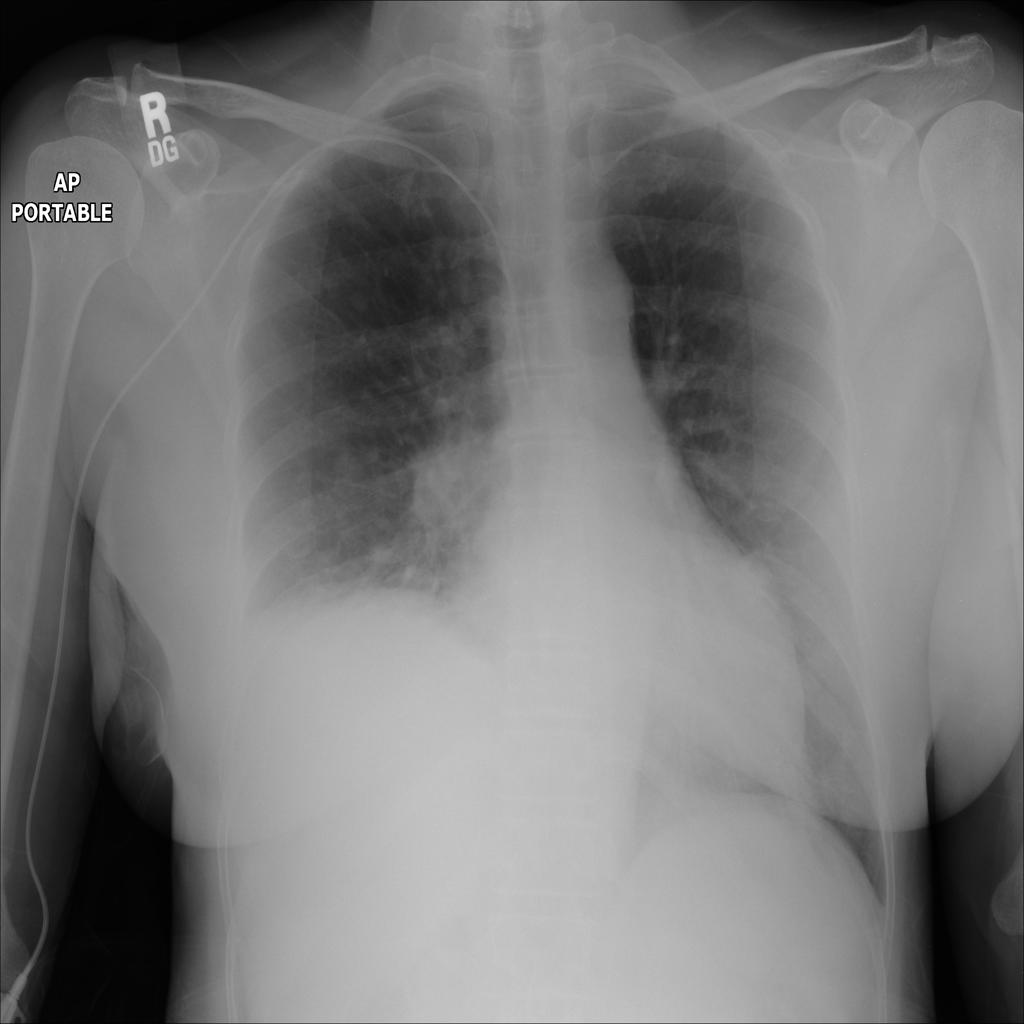nodule: (718, 537, 789, 622), (316, 425, 389, 505), (332, 270, 381, 323)
